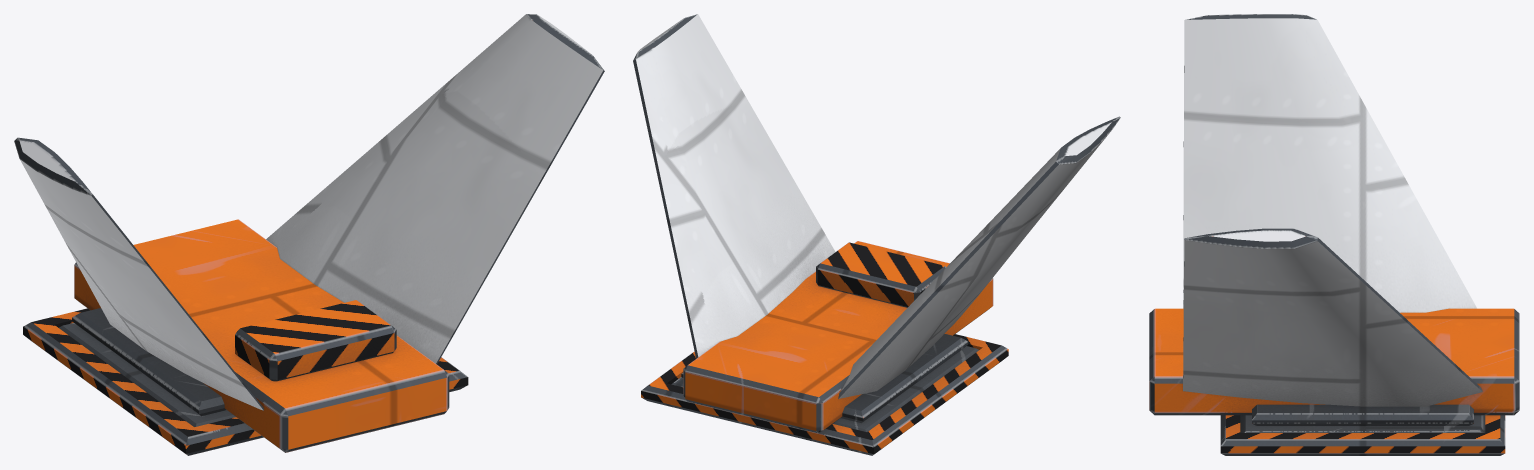
File: estabilizador_doble_t2.fbx
3 renders of one model, left to right at view 1: azimuth 30°, elevation 25°; view 2: azimuth 150°, elevation 25°; view 3: azimuth 270°, elevation 25°, orthographic. The views are drawn at different scales.
Parts seen in each view (by area): view 1: estabilizador_doble_t2; view 2: estabilizador_doble_t2; view 3: estabilizador_doble_t2.
Boxes of the visible parts, x1,y1,x2,y2 form: estabilizador_doble_t2: (14,14,604,455); estabilizador_doble_t2: (633,14,1120,455); estabilizador_doble_t2: (1149,14,1519,455).
Bounding box in the file's own units: 3.76 × 2.2 × 2.6.
